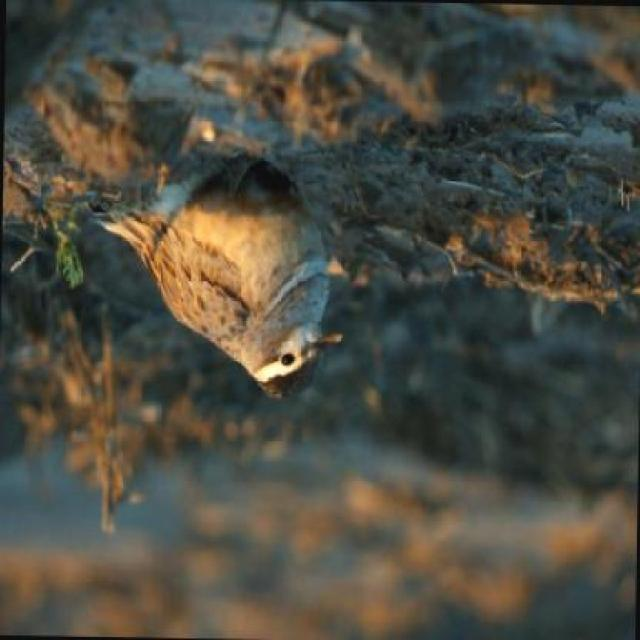Bird: (107, 147, 360, 403)
